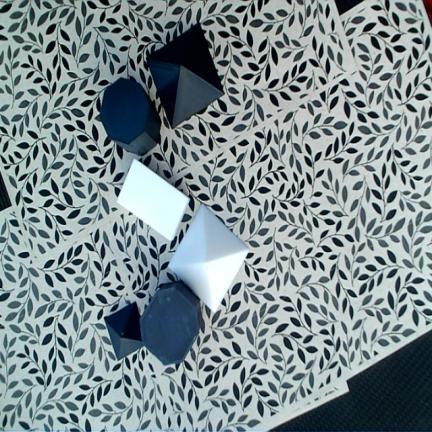Paralelepipedo: (116, 158, 190, 241)
Piramide: (168, 203, 250, 314), (146, 23, 225, 129), (104, 302, 144, 361)
Prisma_hexagonal: (140, 281, 201, 365), (100, 77, 161, 157)
